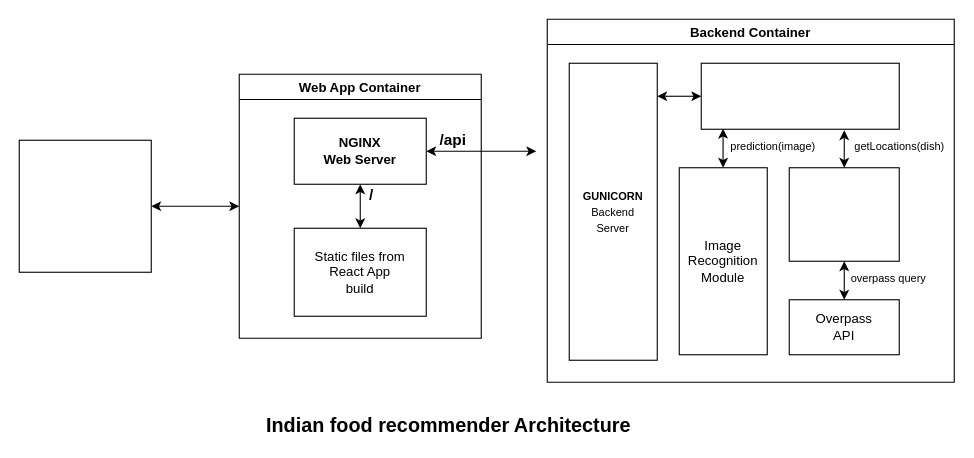
Image size: 974x458. Some labels were removed from this diagram. Here are the shapes that lost their labels. From the top down, the centre of each, then its label:
[799,95]: (API) Django App
[84,205]: User's Web Browser
[843,214]: Recommender Module
